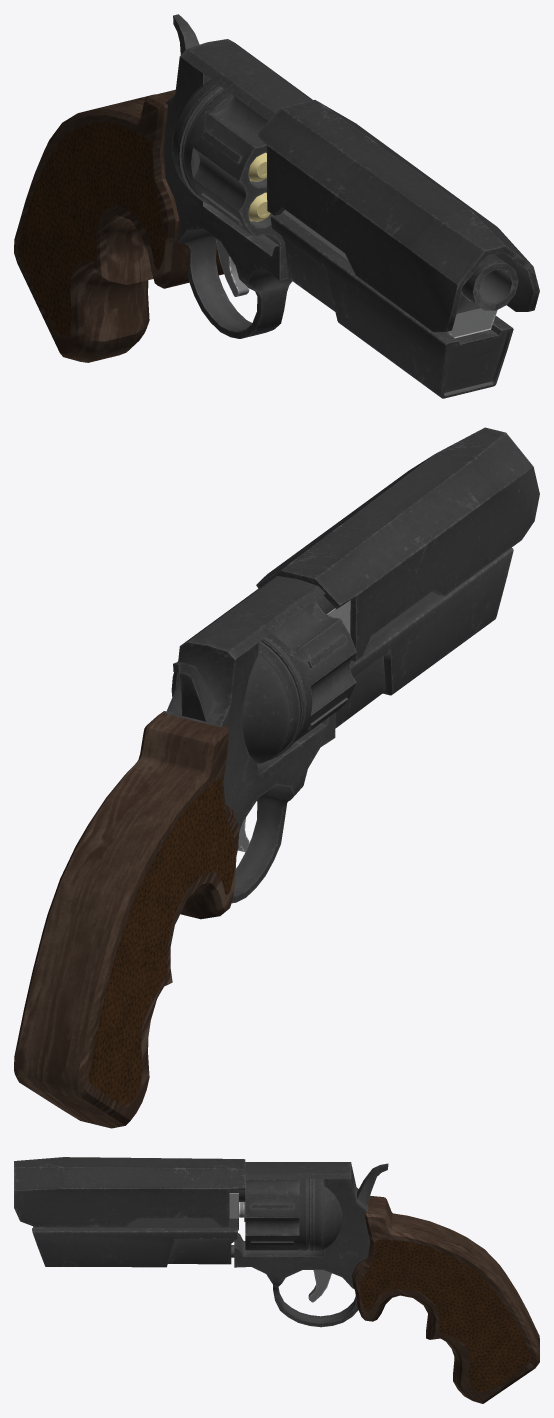
The model's file is SCI-FI Revolver.fbx.
3 views of the same model, one above another, from view 1: azimuth 30°, elevation 25°; view 2: azimuth 150°, elevation 25°; view 3: azimuth 270°, elevation 25° (orthographic). The views are drawn at different scales.
Parts seen in each view (by area): view 1: Cube.002, Cube.003, Cube.001, Cube.004, Cylinder.002, Cylinder.006, Cylinder.016, Cylinder.005; view 2: Cube.002, Cube.003, Cube.001, Cube.004, Cylinder.002, Cylinder.004; view 3: Cube.002, Cube.003, Cube.001, Cube.004, Cylinder.002, Cylinder.016, Cylinder.004.
Part boxes in pixels (left/top/right/bottom): Cube.002: left=14, top=89, right=223, bottom=362; Cube.003: left=256, top=100, right=539, bottom=332; Cube.001: left=163, top=14, right=312, bottom=338; Cube.004: left=270, top=212, right=513, bottom=398; Cylinder.002: left=172, top=80, right=285, bottom=245; Cylinder.006: left=461, top=255, right=518, bottom=310; Cylinder.016: left=282, top=209, right=497, bottom=338; Cylinder.005: left=248, top=152, right=270, bottom=221; Cube.002: left=14, top=711, right=239, bottom=1128; Cube.003: left=256, top=427, right=539, bottom=661; Cube.001: left=165, top=576, right=335, bottom=903; Cube.004: left=335, top=547, right=513, bottom=728; Cylinder.002: left=177, top=601, right=356, bottom=763; Cylinder.004: left=171, top=653, right=290, bottom=763; Cube.002: left=351, top=1196, right=539, bottom=1403; Cube.003: left=14, top=1157, right=245, bottom=1226; Cube.001: left=234, top=1162, right=388, bottom=1327; Cube.004: left=32, top=1226, right=237, bottom=1267; Cylinder.002: left=244, top=1179, right=323, bottom=1251; Cylinder.016: left=42, top=1193, right=244, bottom=1230; Cylinder.004: left=323, top=1179, right=342, bottom=1249.
Bounding box in the file's own units: 62.99 × 196 × 393.
1 material, 1 textured.
